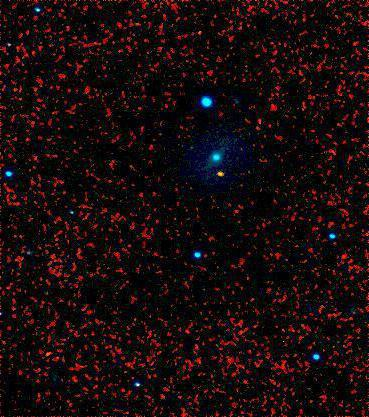star: (207, 158, 237, 188)
